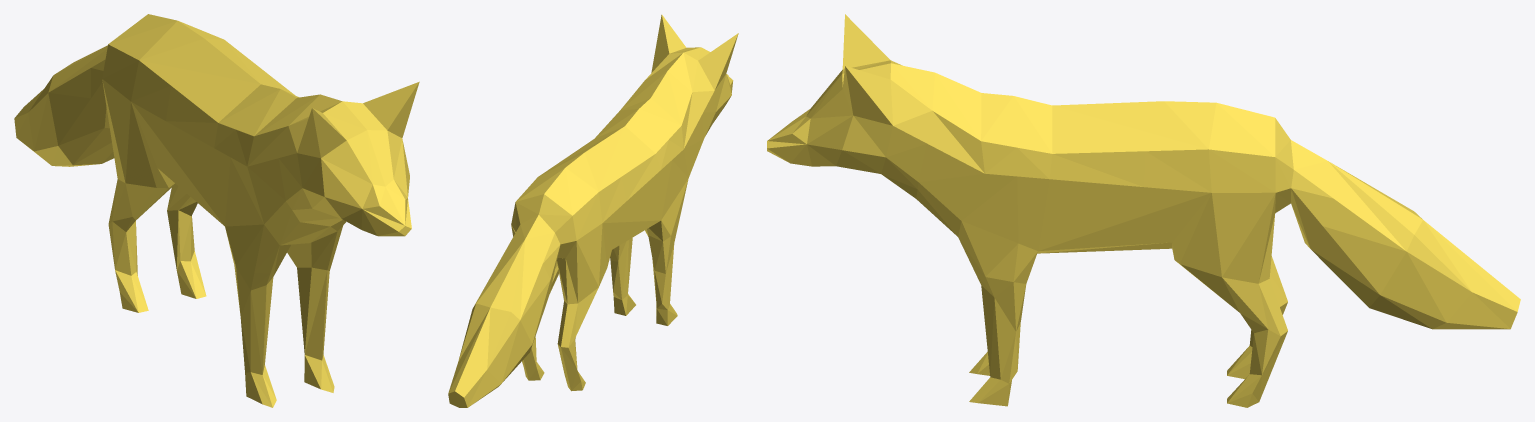
Rendered from card-220.glb.
3 views of the same model, side by side, from view 1: azimuth 30°, elevation 25°; view 2: azimuth 150°, elevation 25°; view 3: azimuth 270°, elevation 25° (orthographic). The views are drawn at different scales.
Visible parts, largest first — view 1: fox1; view 2: fox1; view 3: fox1.
Boxes of the visible parts, box(x1,y1,x2,y2) form: fox1: box(14, 14, 419, 407); fox1: box(448, 14, 738, 407); fox1: box(767, 14, 1520, 407).
Size of the model in its own units: 0.1115 by 0.35 by 0.6852.
